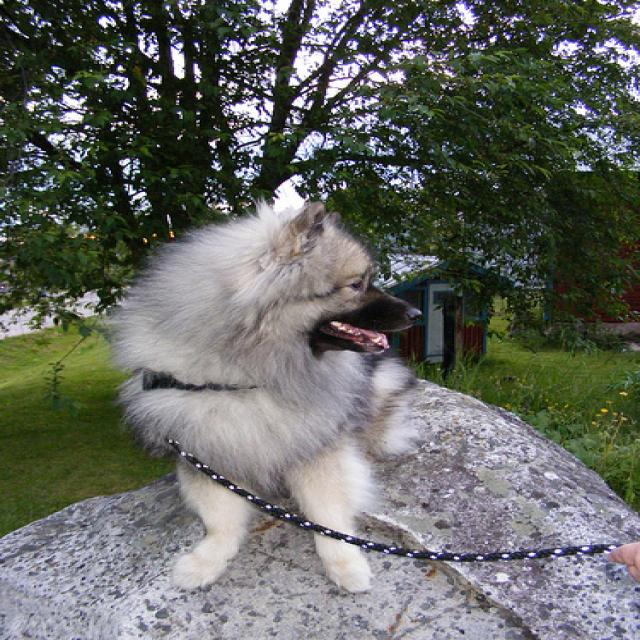dog-keeshond: (108, 200, 435, 603)
